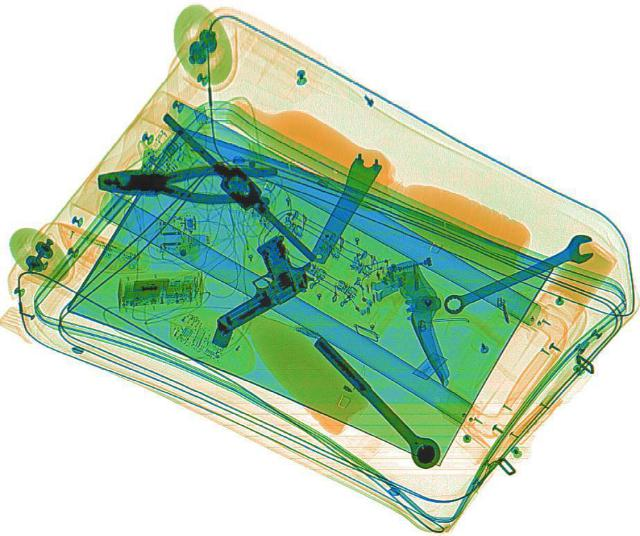Gun: (178, 229, 328, 333)
Pliers: (94, 162, 276, 203)
Wrench: (433, 228, 602, 318)
